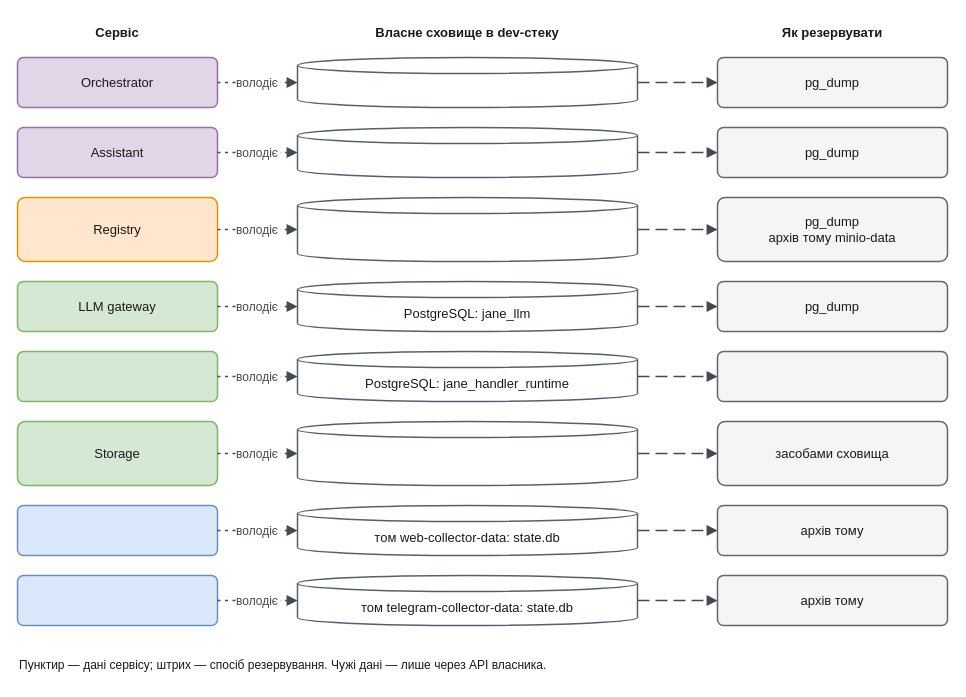
Some shapes in this 966 by 697 pixel diagram are drawn without their labels. The shapes that lost their labels are listed below. From the top down, each one's box as (x1, y1, x2, y2) in pixels, then its label:
(296, 56, 638, 108): PostgreSQL: jane_orchestrator
(296, 126, 638, 178): PostgreSQL: jane_assistant
(296, 196, 638, 262): PostgreSQL: jane_registry MinIO: бакет jane-registry
(16, 350, 218, 402): Handler Runtime
(716, 350, 948, 402): pg_dump (кеш, за потреби)
(296, 420, 638, 486): Цільові сховища користувача: том storage-data, jane_storage_results
(16, 504, 218, 556): Web Collector
(16, 574, 218, 626): Telegram Collector
